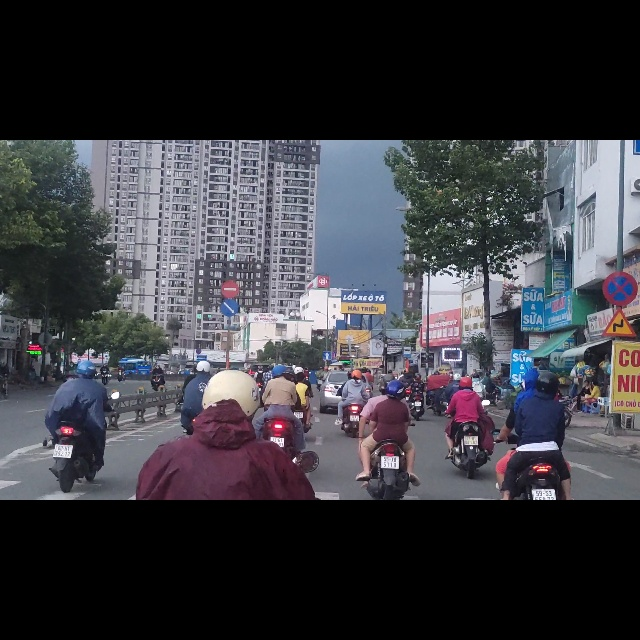bien_nguy_hiem: (603, 232, 639, 295), (602, 299, 637, 353), (221, 249, 239, 280), (221, 283, 238, 314), (403, 366, 412, 386), (323, 375, 331, 391)
